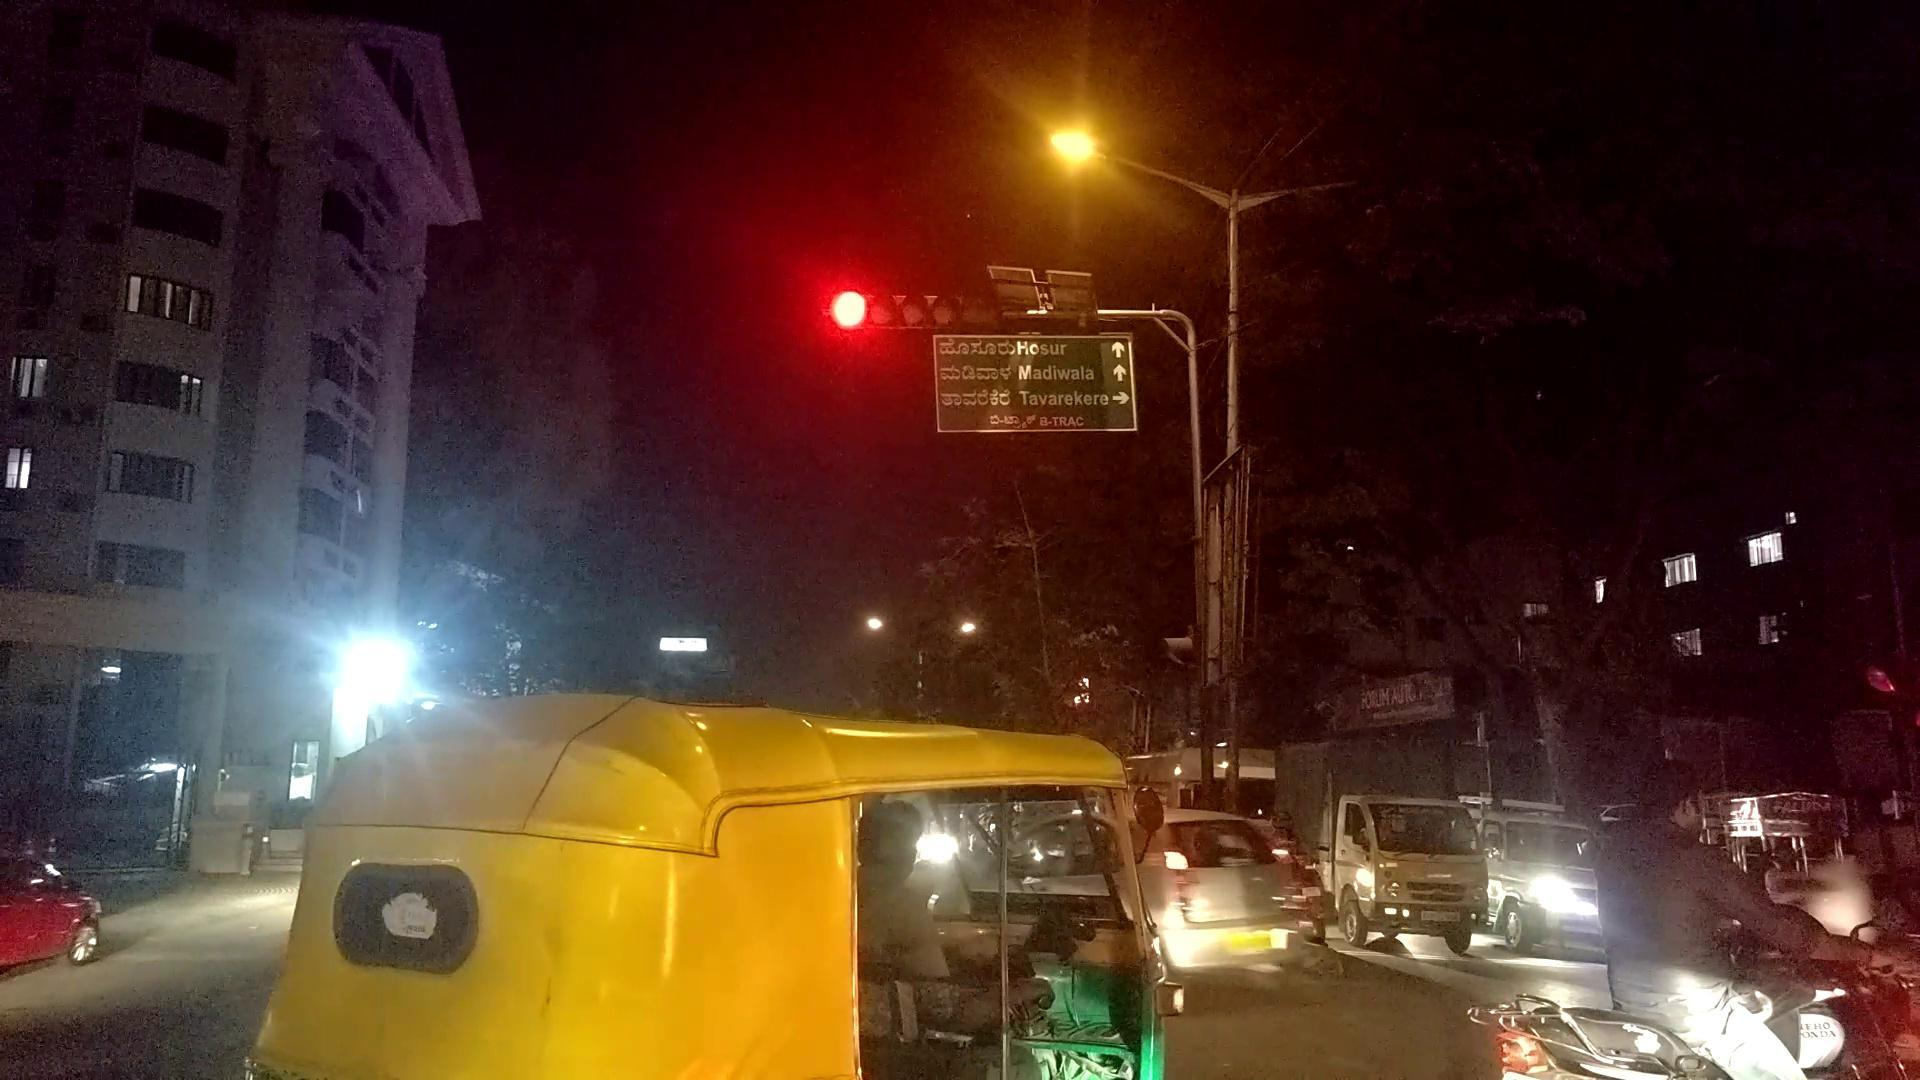on: (940, 22, 1303, 323)
